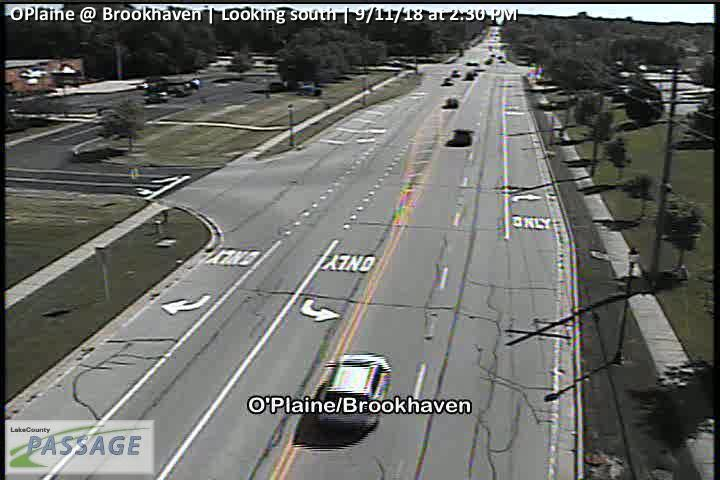SUV: (317, 352, 391, 429), (454, 129, 474, 146), (443, 97, 459, 108)
